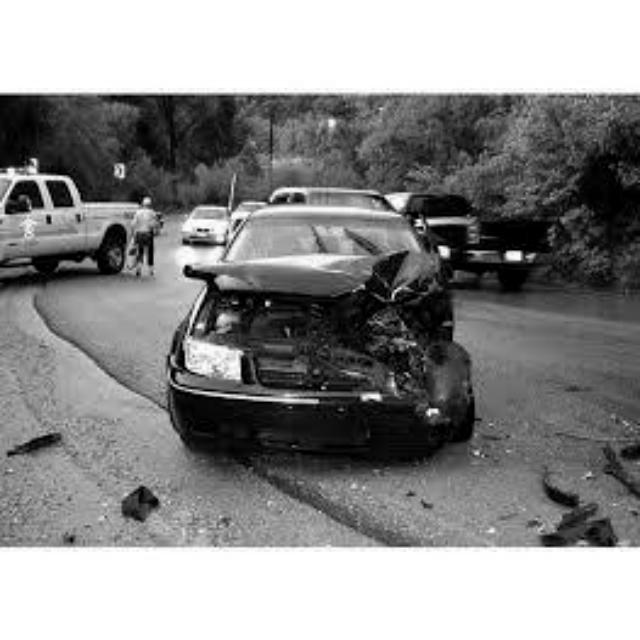Headlight-damage: (378, 339, 464, 389)
bonnet-dent: (205, 256, 433, 316)
front-bumper-dent: (312, 376, 460, 449)
